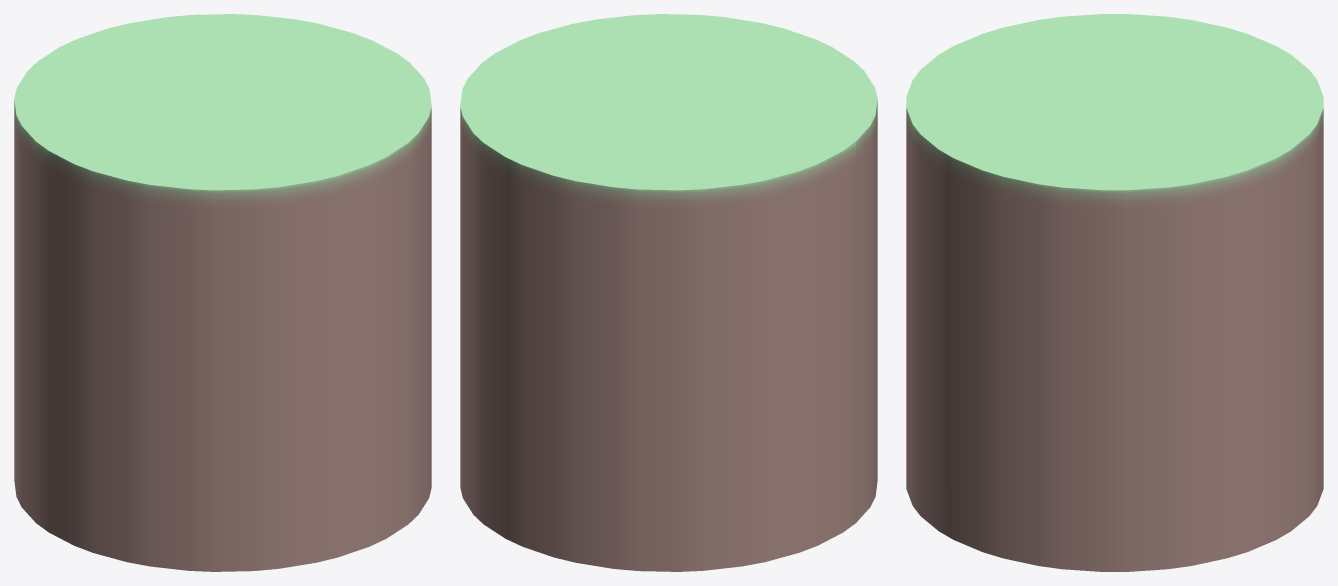
File: Platformhp.fbx
The picture shows the model from 3 angles, left to right: view 1: azimuth 30°, elevation 25°; view 2: azimuth 150°, elevation 25°; view 3: azimuth 270°, elevation 25°; orthographic projection.
Visible parts, largest first — view 1: Ring_Outter, Ring_Mid, Ring_Inner; view 2: Ring_Outter, Ring_Mid, Ring_Inner; view 3: Ring_Outter, Ring_Mid, Ring_Inner.
Boxes of the visible parts, x1,y1,x2,y2 form: Ring_Outter: [14, 14, 431, 571]; Ring_Mid: [50, 29, 395, 174]; Ring_Inner: [108, 53, 338, 150]; Ring_Outter: [460, 14, 877, 571]; Ring_Mid: [496, 29, 841, 174]; Ring_Inner: [553, 53, 783, 150]; Ring_Outter: [906, 14, 1323, 571]; Ring_Mid: [942, 29, 1287, 174]; Ring_Inner: [999, 53, 1230, 150].
Size of the model in its own units: 25.23 by 25.74 by 25.23.
